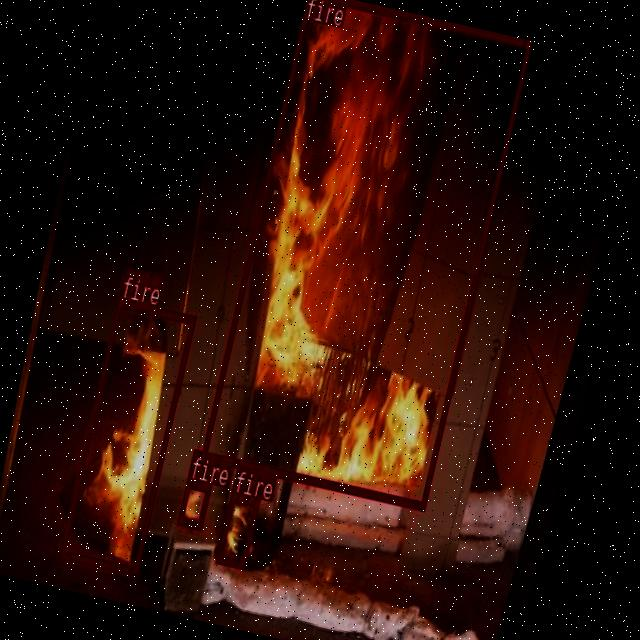fire: (200, 0, 531, 509), (58, 297, 195, 574), (215, 490, 259, 567), (176, 478, 210, 528)
